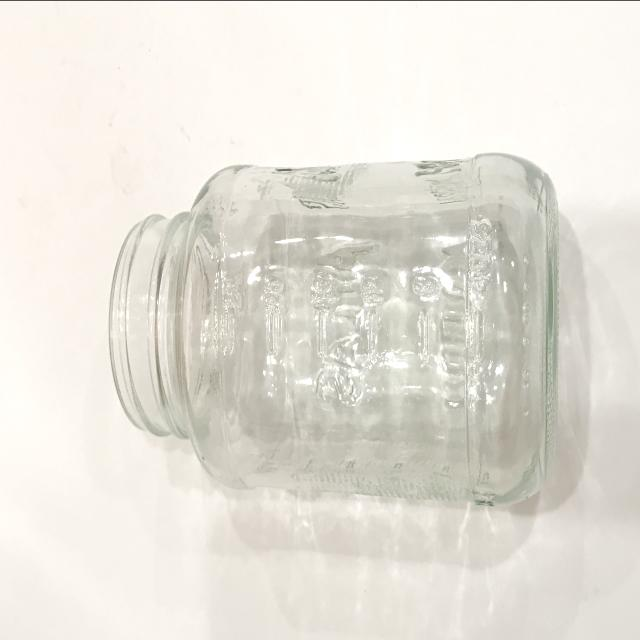Glass: (94, 131, 572, 519)
